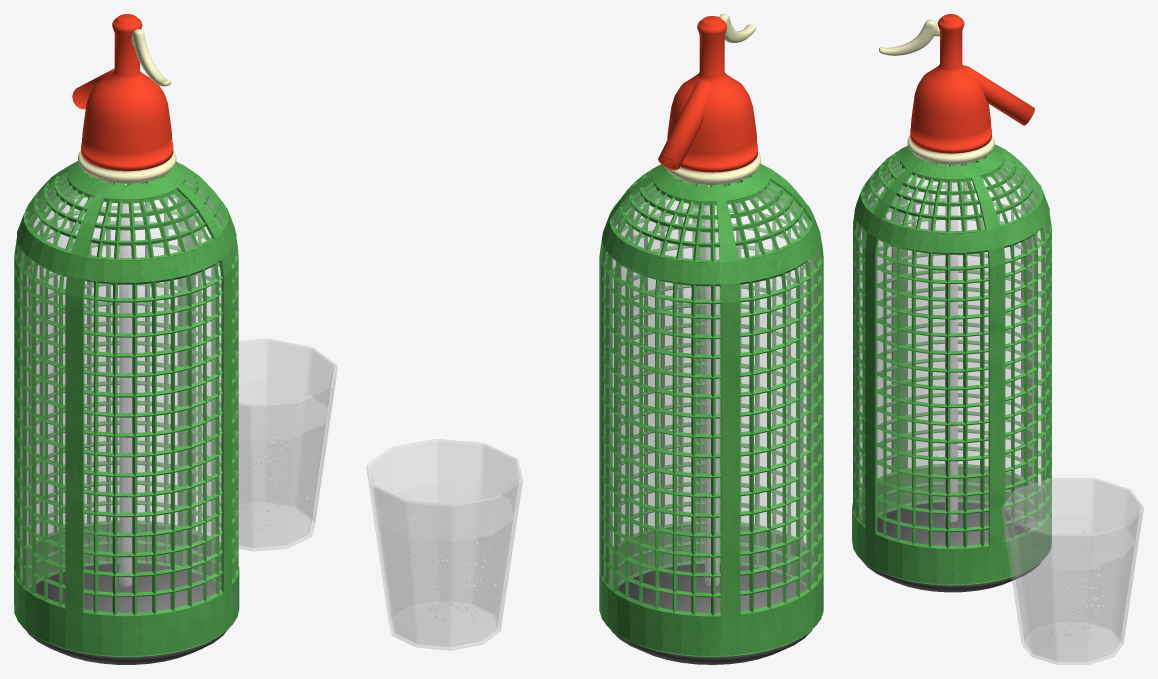
Rendered from sifon_de_soda_retro.glb.
3 views of the same model, side by side, from view 1: azimuth 30°, elevation 25°; view 2: azimuth 150°, elevation 25°; view 3: azimuth 270°, elevation 25° (orthographic). The views are drawn at different scales.
Visible parts, largest first — view 1: COPIA.001_1, VIDRIO SIFON.002_9, CALADO-SOLIDO.001_3, Cylinder.003_205, Cylinder.002_5, VIDRIO SIFON.003_4, Cylinder_8, ANILLO.001_2, Cylinder.005_206, Cube.001_7, Cylinder.004_6; view 2: COPIA.001_1, VIDRIO SIFON.002_9, CALADO-SOLIDO.001_3, Cylinder.003_205, Cylinder.002_5, VIDRIO SIFON.003_4, Cylinder_8, Cylinder.004_6, Cylinder.005_206, ANILLO.001_2; view 3: COPIA.001_1, VIDRIO SIFON.002_9, CALADO-SOLIDO.001_3, Cylinder.003_205, Cylinder.002_5, VIDRIO SIFON.003_4, Cylinder_8, Cylinder.004_6, Cylinder.005_206, ANILLO.001_2, Cube.001_7.
Part boxes in pixels (<box>): COPIA.001_1: <box>14,162,238,656</box>; VIDRIO SIFON.002_9: <box>17,176,235,612</box>; CALADO-SOLIDO.001_3: <box>14,161,239,655</box>; Cylinder.003_205: <box>196,339,337,551</box>; Cylinder.002_5: <box>81,14,173,171</box>; VIDRIO SIFON.003_4: <box>26,563,227,664</box>; Cylinder_8: <box>119,183,133,586</box>; ANILLO.001_2: <box>78,151,176,183</box>; Cylinder.005_206: <box>239,381,309,403</box>; Cube.001_7: <box>131,29,171,86</box>; Cylinder.004_6: <box>72,68,114,109</box>; COPIA.001_1: <box>600,164,822,657</box>; VIDRIO SIFON.002_9: <box>604,180,819,612</box>; CALADO-SOLIDO.001_3: <box>599,164,823,655</box>; Cylinder.003_205: <box>366,439,522,650</box>; Cylinder.002_5: <box>667,16,757,172</box>; VIDRIO SIFON.003_4: <box>611,563,812,664</box>; Cylinder_8: <box>705,185,719,585</box>; Cylinder.004_6: <box>658,80,712,170</box>; Cylinder.005_206: <box>394,483,498,503</box>; ANILLO.001_2: <box>665,152,760,184</box>; COPIA.001_1: <box>853,146,1051,585</box>; VIDRIO SIFON.002_9: <box>855,158,1047,545</box>; CALADO-SOLIDO.001_3: <box>852,144,1051,584</box>; Cylinder.003_205: <box>1001,478,1143,664</box>; Cylinder.002_5: <box>910,14,991,153</box>; VIDRIO SIFON.003_4: <box>862,502,1041,592</box>; Cylinder_8: <box>945,164,957,521</box>; Cylinder.004_6: <box>963,65,1034,125</box>; Cylinder.005_206: <box>1023,517,1120,533</box>; ANILLO.001_2: <box>907,135,994,164</box>; Cube.001_7: <box>879,19,939,55</box>.
Size of the model in its own units: 1.69 by 2.7 by 1.32.
8 materials, 1 textured.
